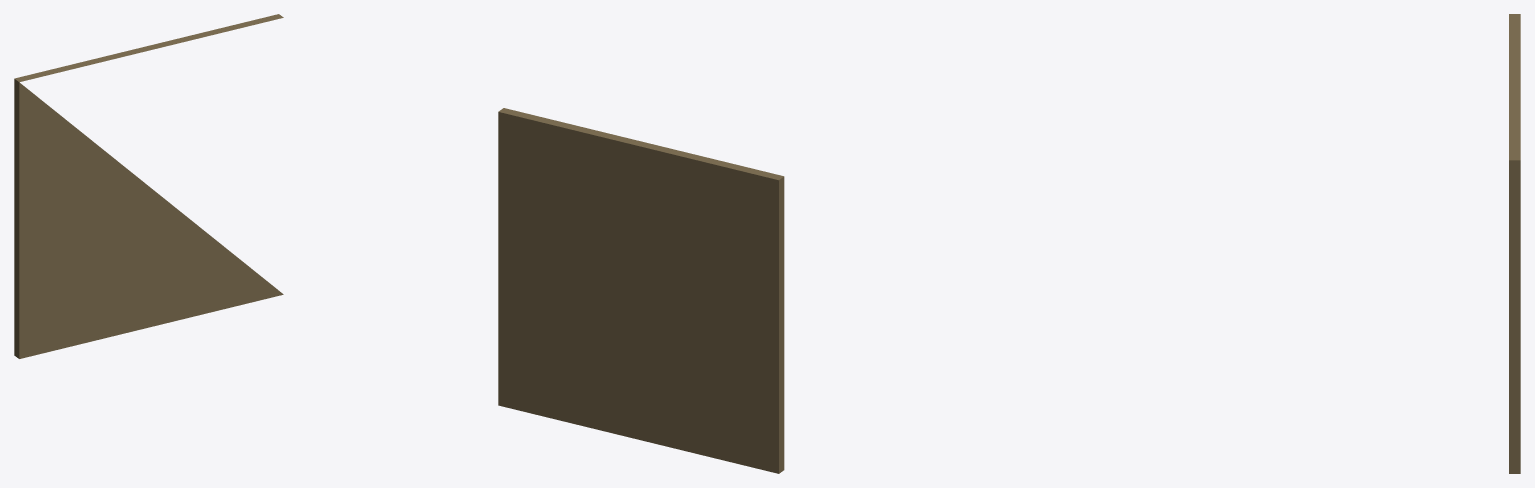
The model's file is tall_grass.glb.
3 views of the same model, side by side, from view 1: azimuth 30°, elevation 25°; view 2: azimuth 150°, elevation 25°; view 3: azimuth 270°, elevation 25° (orthographic). The views are drawn at different scales.
Visible parts, largest first — view 1: geometry_0; view 2: geometry_0; view 3: geometry_0.
Boxes of the visible parts, x1,y1,x2,y2 form: geometry_0: (14,14,283,358); geometry_0: (498,108,784,473); geometry_0: (1509,14,1520,473).
Size of the model in its own units: 0.3012 by 0.3014 by 0.4585.
